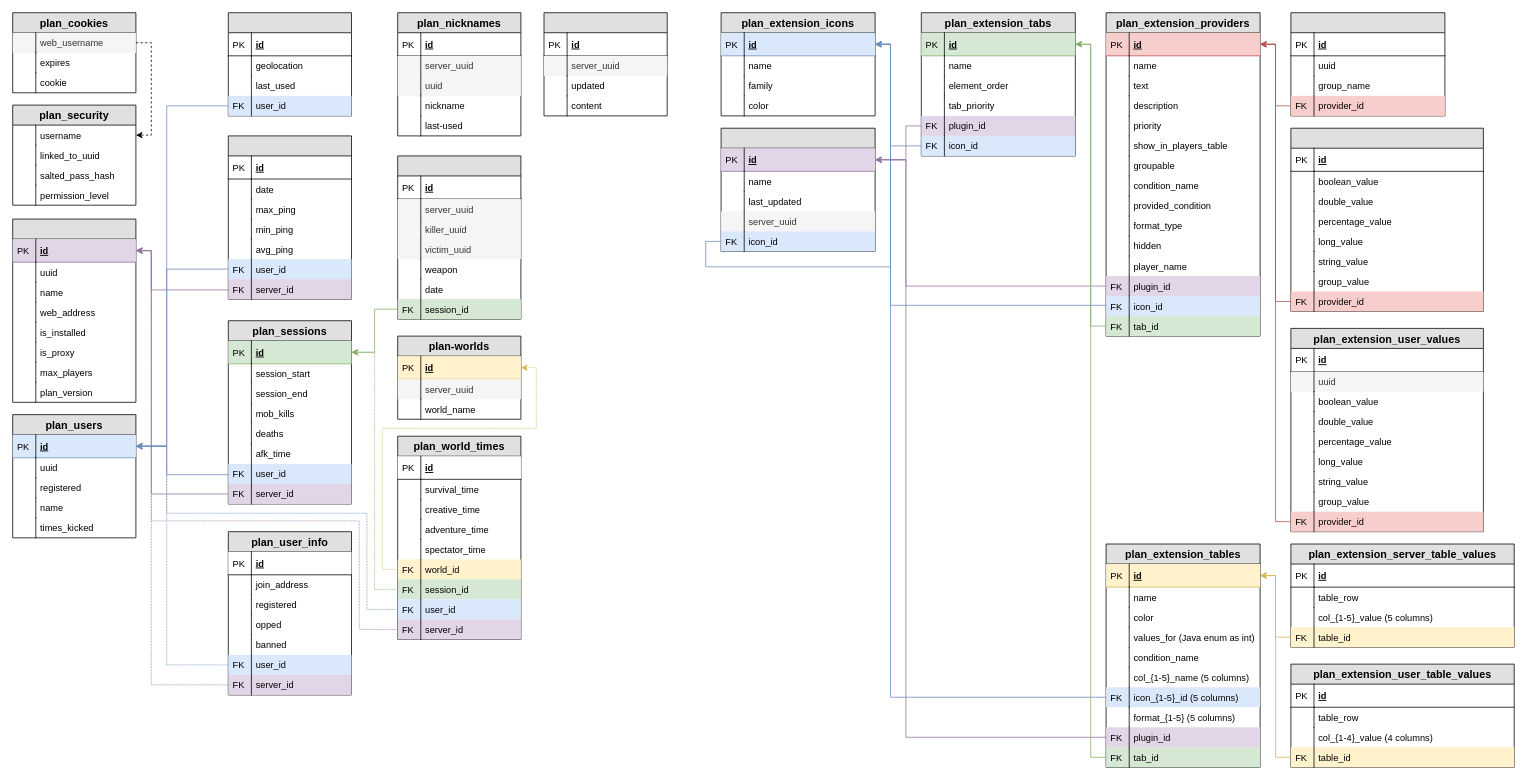
Some shapes in this 1527 by 780 pixel diagram are drawn without their labels. Here are the shapes that lost their labels. From the top down, the box of each, then its label:
(228, 12, 352, 116): plan_geolocations
(543, 12, 667, 116): plan_settings
(1290, 12, 1445, 116): plan_extension_groups
(720, 127, 875, 251): plan_extension_plugins
(228, 135, 352, 299): plan_ping
(397, 155, 521, 319): plan_kills
(1290, 127, 1483, 311): plan_extension_server_values
(12, 218, 136, 402): plan_servers
